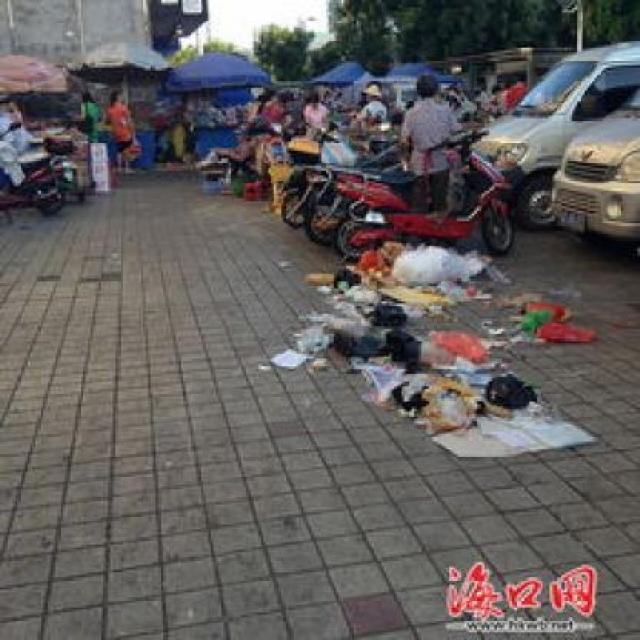garbage: (278, 229, 606, 470)
